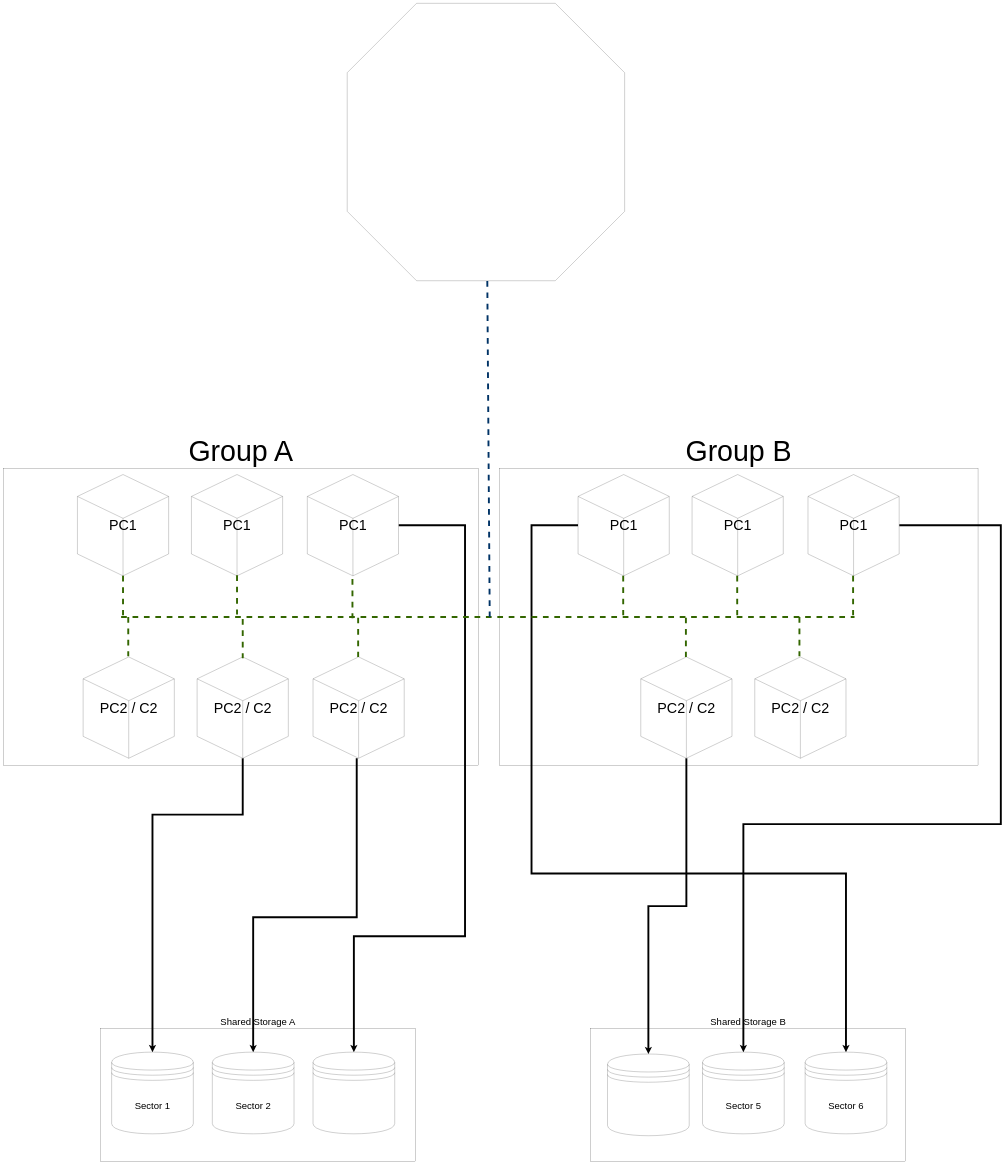
The diagram is 1007 pixels wide and 1165 high, and some of its shapes have lost their labels. The shapes that lost their labels are listed below. From the top down, each one's centre as x and y in pixels, then its label:
the point at 486,142: Miner
the point at 354,1093: Sector 3
the point at 648,1095: Sector 4
